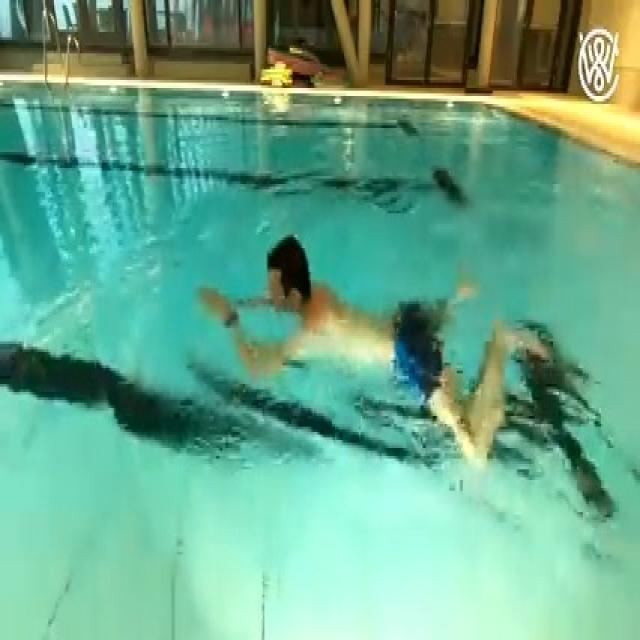Swimming: (199, 235, 552, 470)
